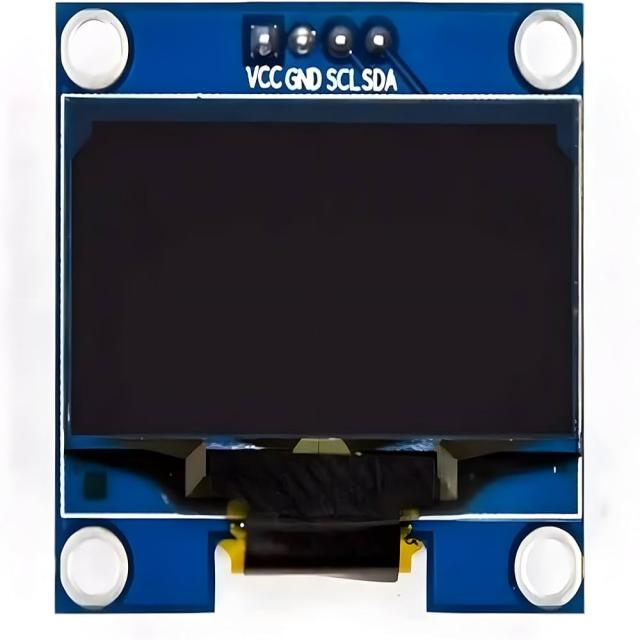Display: (37, 4, 593, 633)
